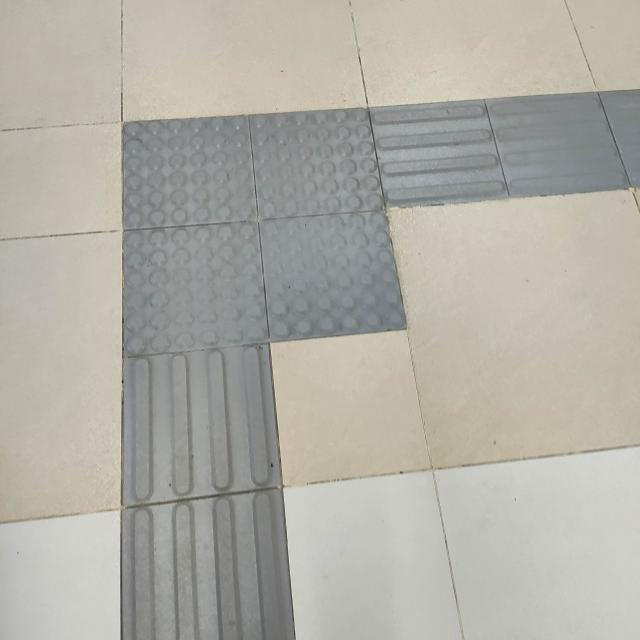kanan: (77, 82, 640, 400)
